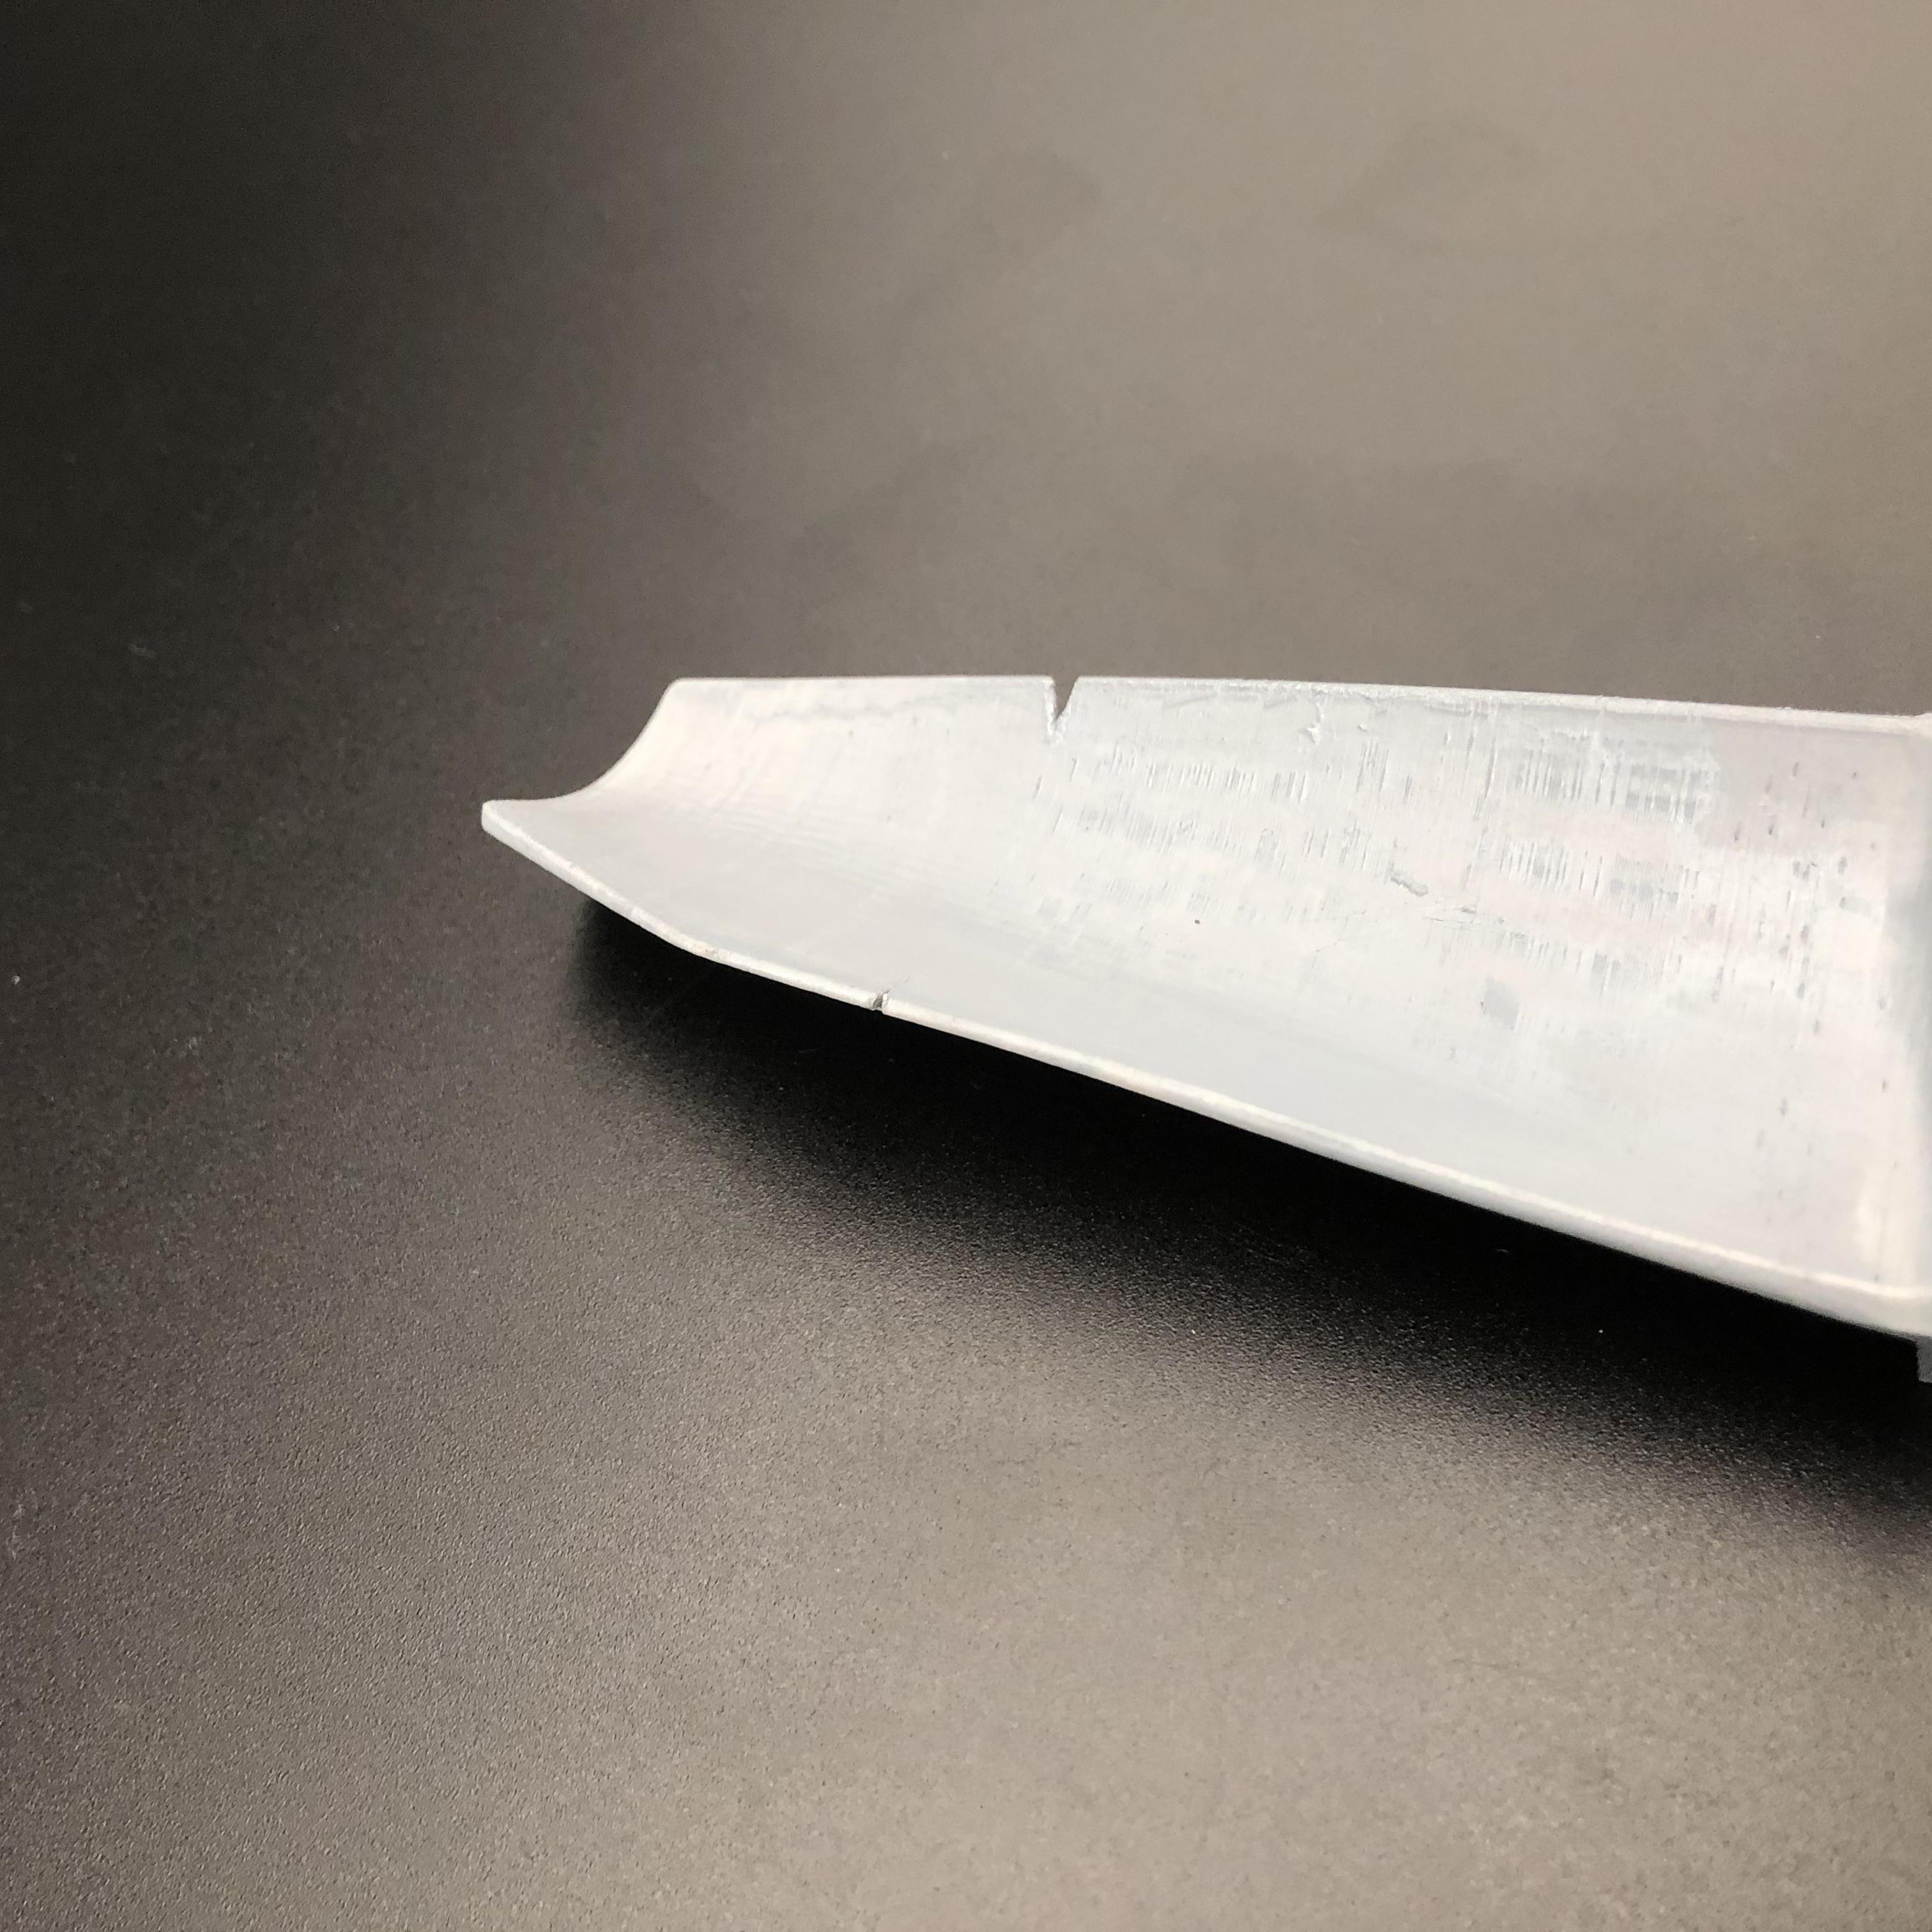groove: (1033, 679, 1102, 729), (862, 987, 909, 1016)
